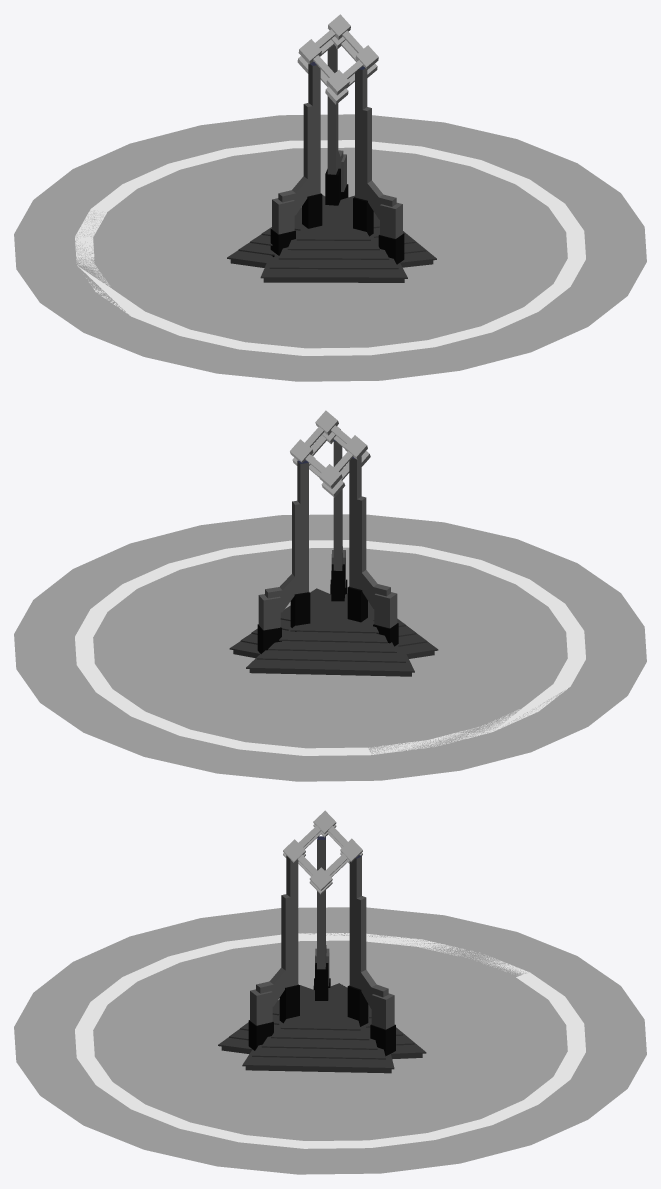
The model's file is tugu-teknik.glb.
The picture shows the model from 3 angles, top to bottom: view 1: azimuth 30°, elevation 25°; view 2: azimuth 150°, elevation 25°; view 3: azimuth 270°, elevation 25°; orthographic projection.
Visible parts, largest first — view 1: TUGU; view 2: TUGU; view 3: TUGU.
Part boxes in pixels (left/top/right/bottom): TUGU: left=14, top=14, right=646, bottom=381; TUGU: left=14, top=410, right=646, bottom=781; TUGU: left=14, top=810, right=646, bottom=1174.
Bounding box in the file's own units: 8.45 × 3.45 × 8.45.
11 materials, 2 textured.
